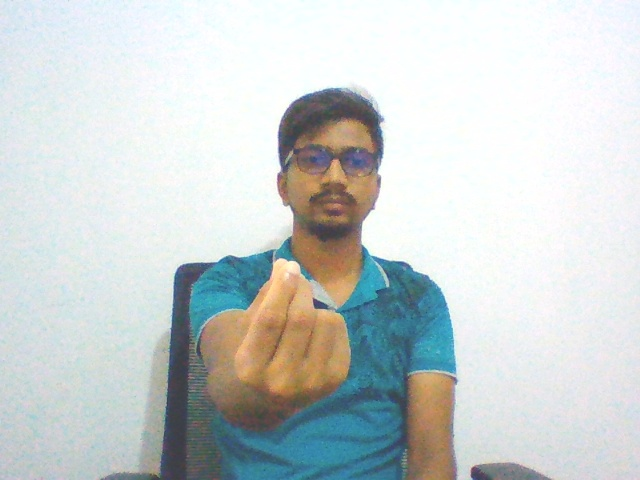dog: (228, 250, 356, 422)
